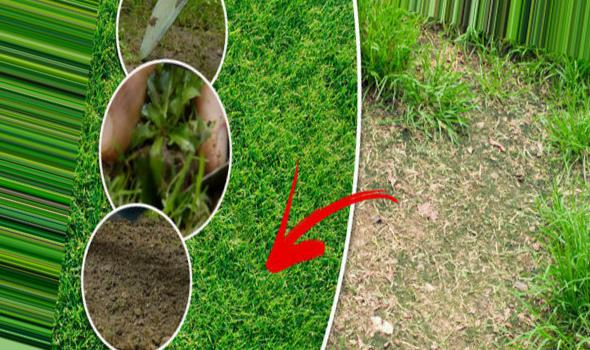patch: (377, 157, 507, 334), (365, 134, 462, 350), (99, 232, 170, 328), (484, 117, 551, 182), (349, 270, 391, 346)
